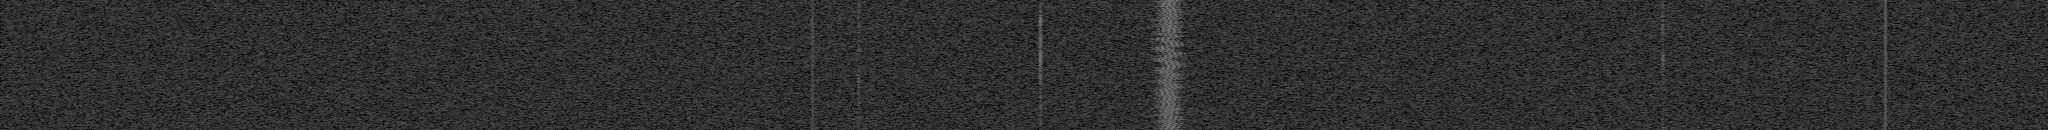wv_cw: (1883, 0, 1889, 130), (810, 0, 815, 108), (810, 109, 815, 130)
wv_usb: (856, 1, 862, 88), (1660, 0, 1667, 81), (1038, 1, 1044, 101), (856, 90, 861, 130), (1660, 101, 1667, 130), (1038, 104, 1044, 130), (1661, 82, 1665, 90), (1661, 95, 1665, 100)
wv_wbfm: (1145, 0, 1194, 130)
